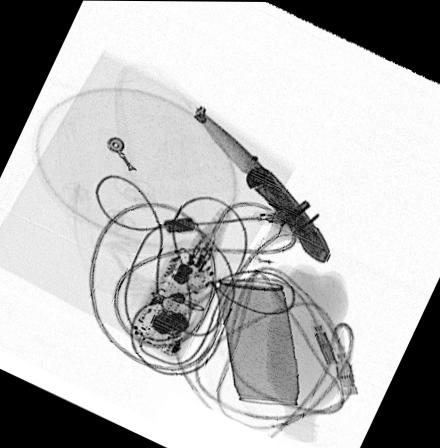Knife: (193, 105, 333, 263)
